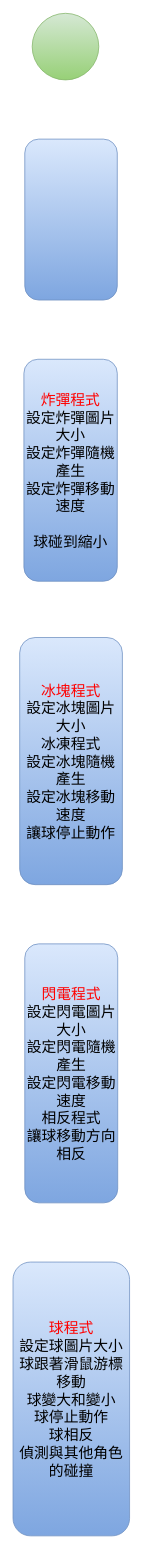
This 143x1549 diagram has some shape labels left out. Each missing label, with the centre of its shape:
泡泡程式 設定泡泡圖片大小 泡泡位置隨機產生 設定泡泡移動速度 球碰到放大: the point at 70,219
遊戲角色: the point at 65,46
